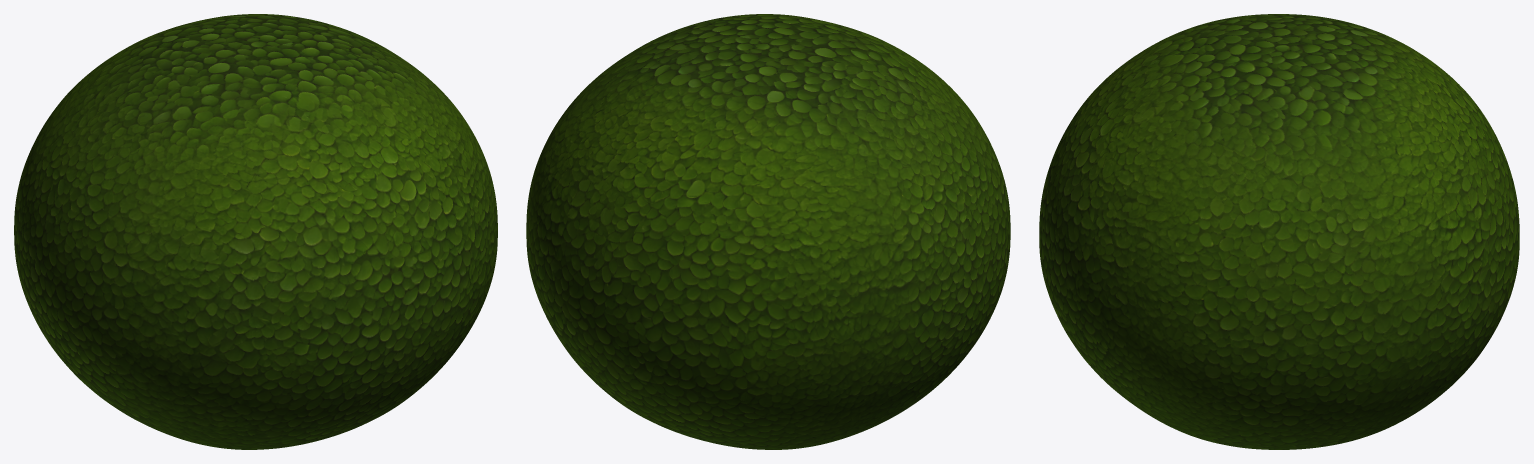
The model's file is Boxwood.glb.
3 views of the same model, side by side, from view 1: azimuth 30°, elevation 25°; view 2: azimuth 150°, elevation 25°; view 3: azimuth 270°, elevation 25° (orthographic).
Parts seen in each view (by area): view 1: node_0, node_0.002, node_0.001; view 2: node_0, node_0.002, node_0.001; view 3: node_0.001, node_0.002, node_0.
Part boxes in pixels (x1=…): node_0: x1=14, y1=49, x2=298, y2=448; node_0.002: x1=113, y1=14, x2=441, y2=449; node_0.001: x1=286, y1=15, x2=497, y2=398; node_0: x1=727, y1=49, x2=1010, y2=448; node_0.002: x1=582, y1=14, x2=910, y2=449; node_0.001: x1=526, y1=15, x2=738, y2=403; node_0.001: x1=1053, y1=87, x2=1506, y2=449; node_0.002: x1=1039, y1=17, x2=1519, y2=387; node_0: x1=1116, y1=14, x2=1439, y2=69.
Bounding box in the file's own units: 1.19 × 1.01 × 1.18.
Materials: 1 (1 with a texture image).
